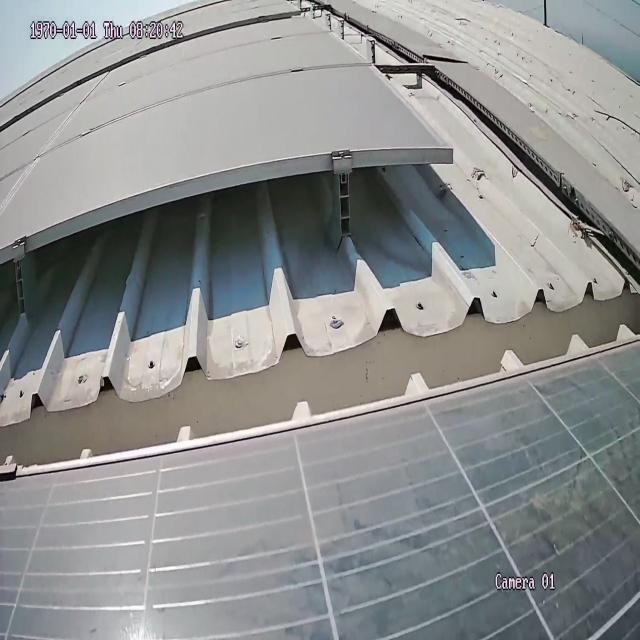outher panel: (0, 0, 640, 467)
